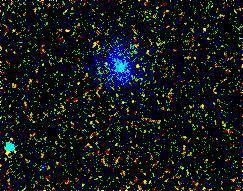star: (123, 52, 153, 82)
